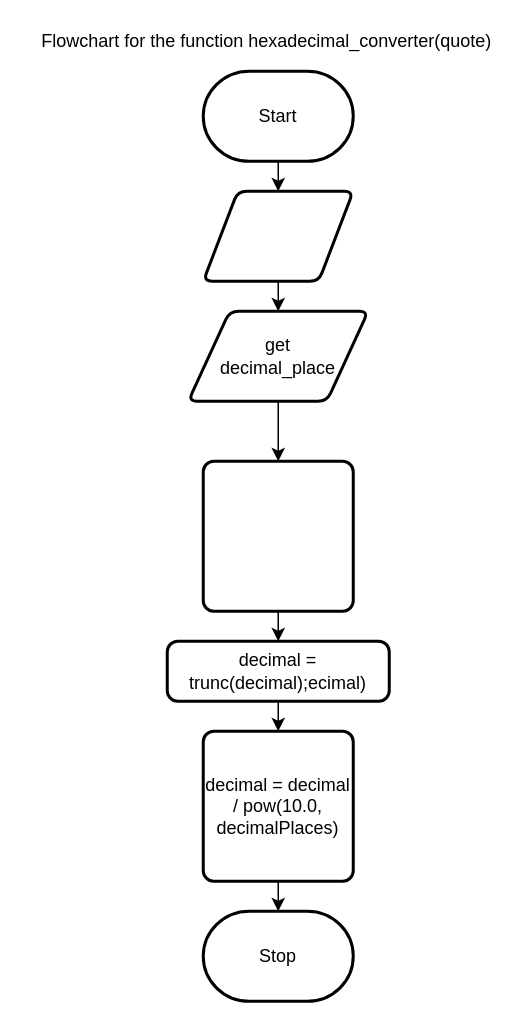
Some shapes in this 531 by 1028 pixel diagram are drawn without their labels. The shapes that lost their labels are listed below. From the top down, each one's centre as x and y in pixels, then its label:
At point 277,235: "get decimal".
At point 277,535: "decimal = decimal * pow(10.0, decimalPlaces) + 0.5".
